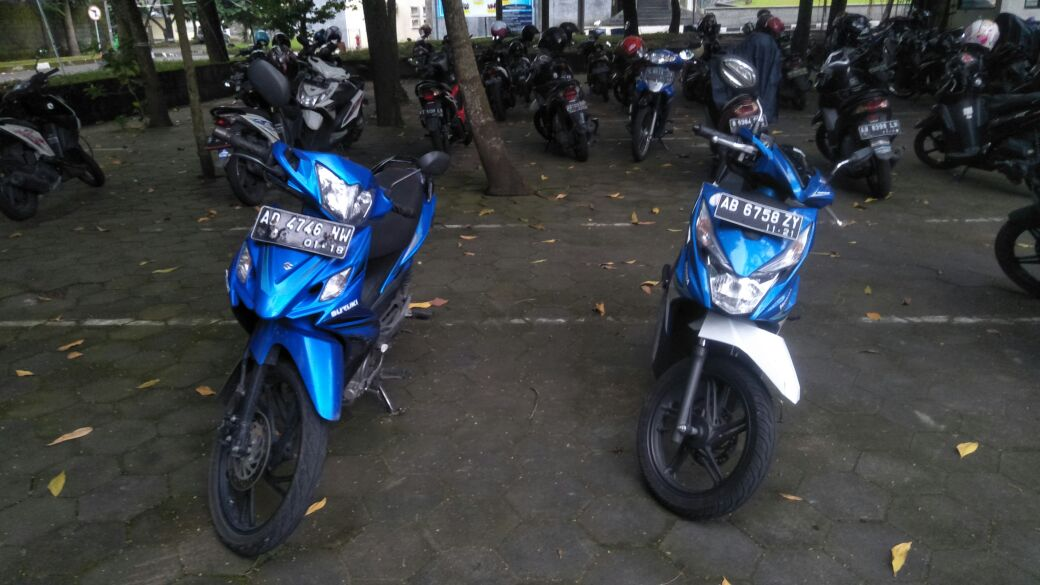plate: (249, 206, 353, 260), (714, 193, 803, 243), (858, 119, 903, 137)
